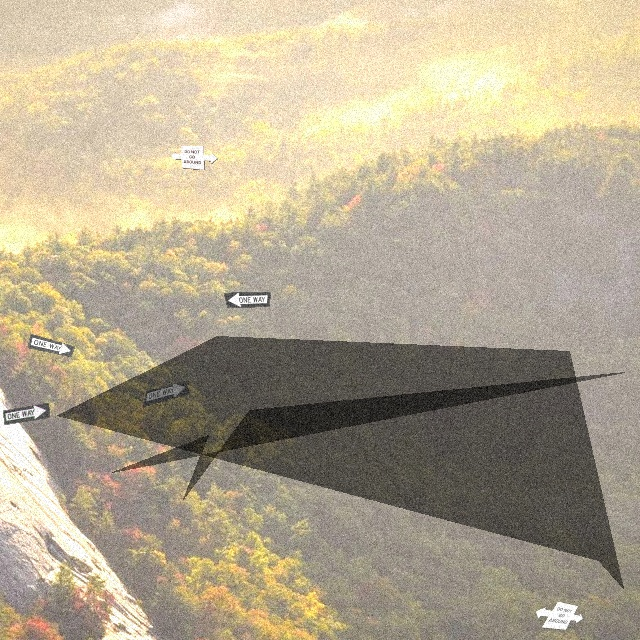DO_NOT_GO_AROUND: (535, 601, 583, 630), (170, 145, 218, 170)
ONE_WAY_ left: (223, 291, 271, 308)
ONE_WAY_ right: (142, 380, 190, 407), (27, 333, 75, 357), (2, 402, 50, 425)
